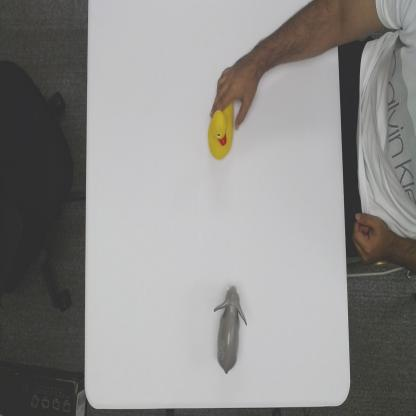Arm: (259, 0, 336, 70)
Duck: (208, 100, 234, 160)
Elephant: (212, 284, 248, 374)
Hand: (212, 50, 264, 129)
